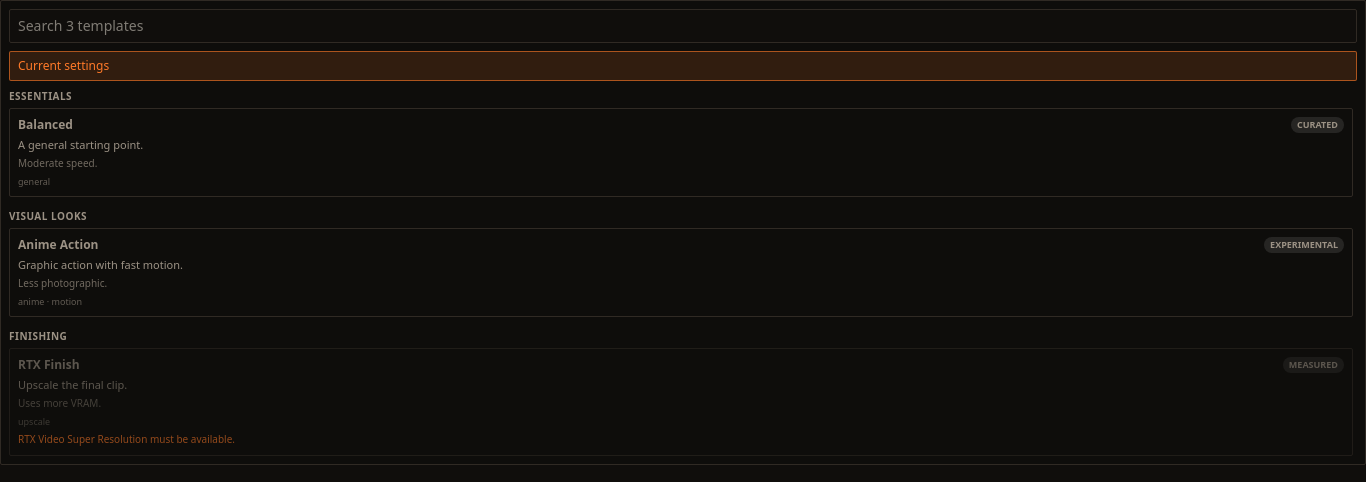
Template sweep picker › searches names, categories, descriptions, evidence, and tags
Check: the heading "Essentials" is shown, box x1=9 y1=89 x2=72 y2=103
Check: the heading "Visual looks" is shown, box x1=9 y1=209 x2=87 y2=223
Type "anime motion" into the search field named "search template axis". click: (683, 26)
box: x1=9 y1=9 x2=1357 y2=43
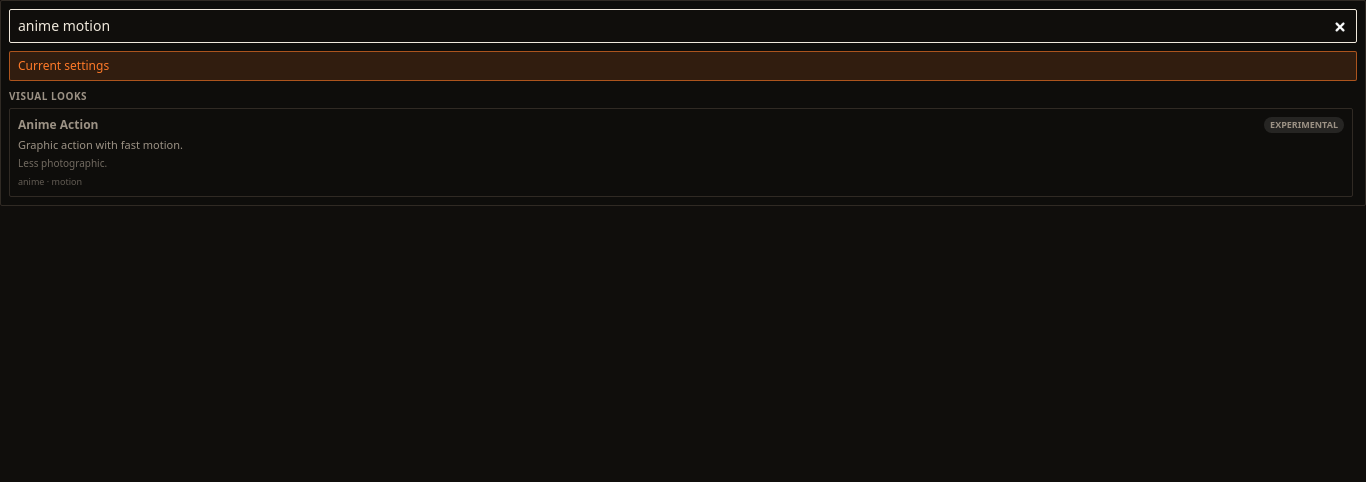
Check: the button "Anime Action" is shown, box x1=9 y1=108 x2=1353 y2=197
Check: the button "Balanced" is gone
